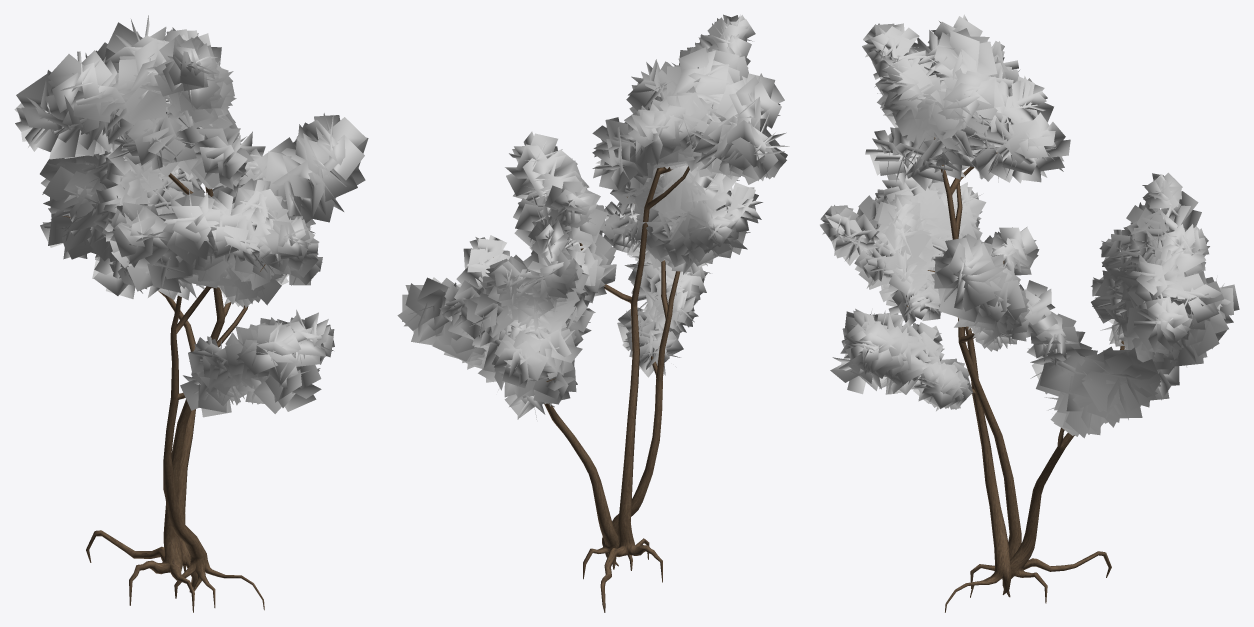
File: Tree_04.fbx
3 views of the same model, side by side, from view 1: azimuth 30°, elevation 25°; view 2: azimuth 150°, elevation 25°; view 3: azimuth 270°, elevation 25° (orthographic). The views are drawn at different scales.
Visible parts, largest first — view 1: Tree_04_LOD0; view 2: Tree_04_LOD0; view 3: Tree_04_LOD0.
Boxes of the visible parts, x1,y1,x2,y2 form: Tree_04_LOD0: (14,15,368,612); Tree_04_LOD0: (397,14,789,612); Tree_04_LOD0: (820,14,1239,612).
Size of what is drawn, in the model's own units: 3.46 by 5.55 by 3.9.
